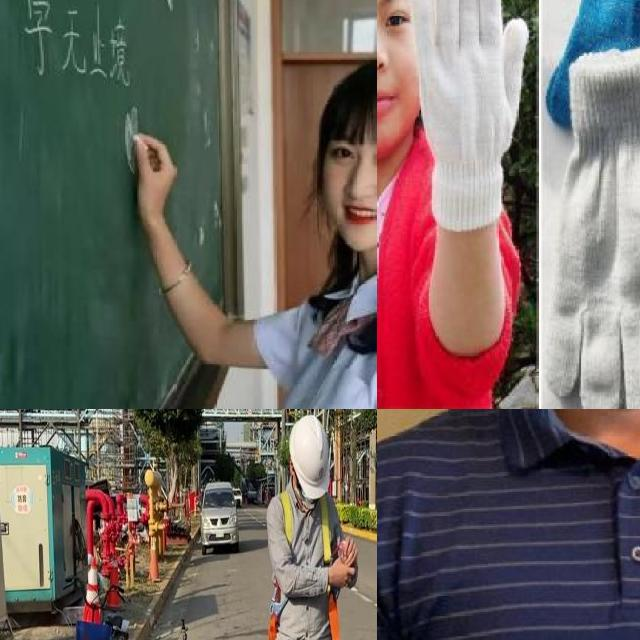Harness: (268, 587, 285, 640), (329, 590, 341, 640)
No_Glasses: (377, 0, 410, 46)
face_nomask: (308, 133, 377, 247), (377, 0, 425, 147)
hand_glove: (406, 0, 532, 195)
hand_noglove: (130, 130, 177, 230)
head_nohelmet: (305, 55, 377, 139)
person: (100, 52, 377, 409), (377, 0, 538, 409)
